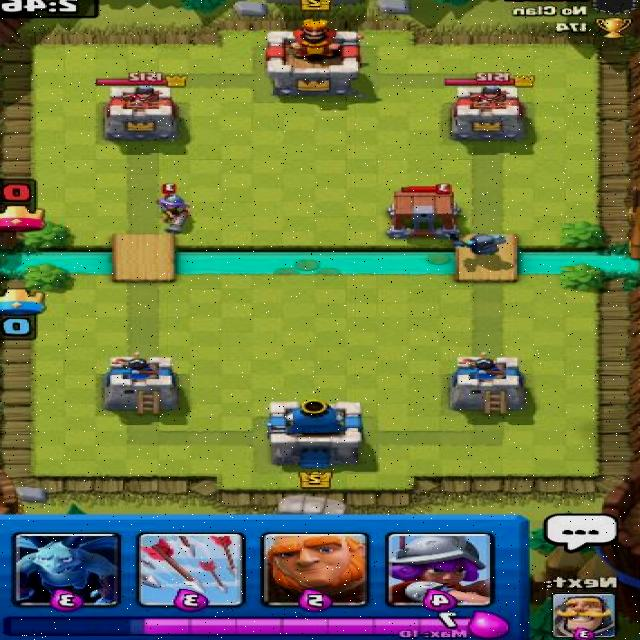Enemy-GoblinCage: (382, 182, 466, 240)
Enemy-Musketeer: (152, 182, 193, 236)
Player-MiniPEKKA: (445, 228, 510, 257)
